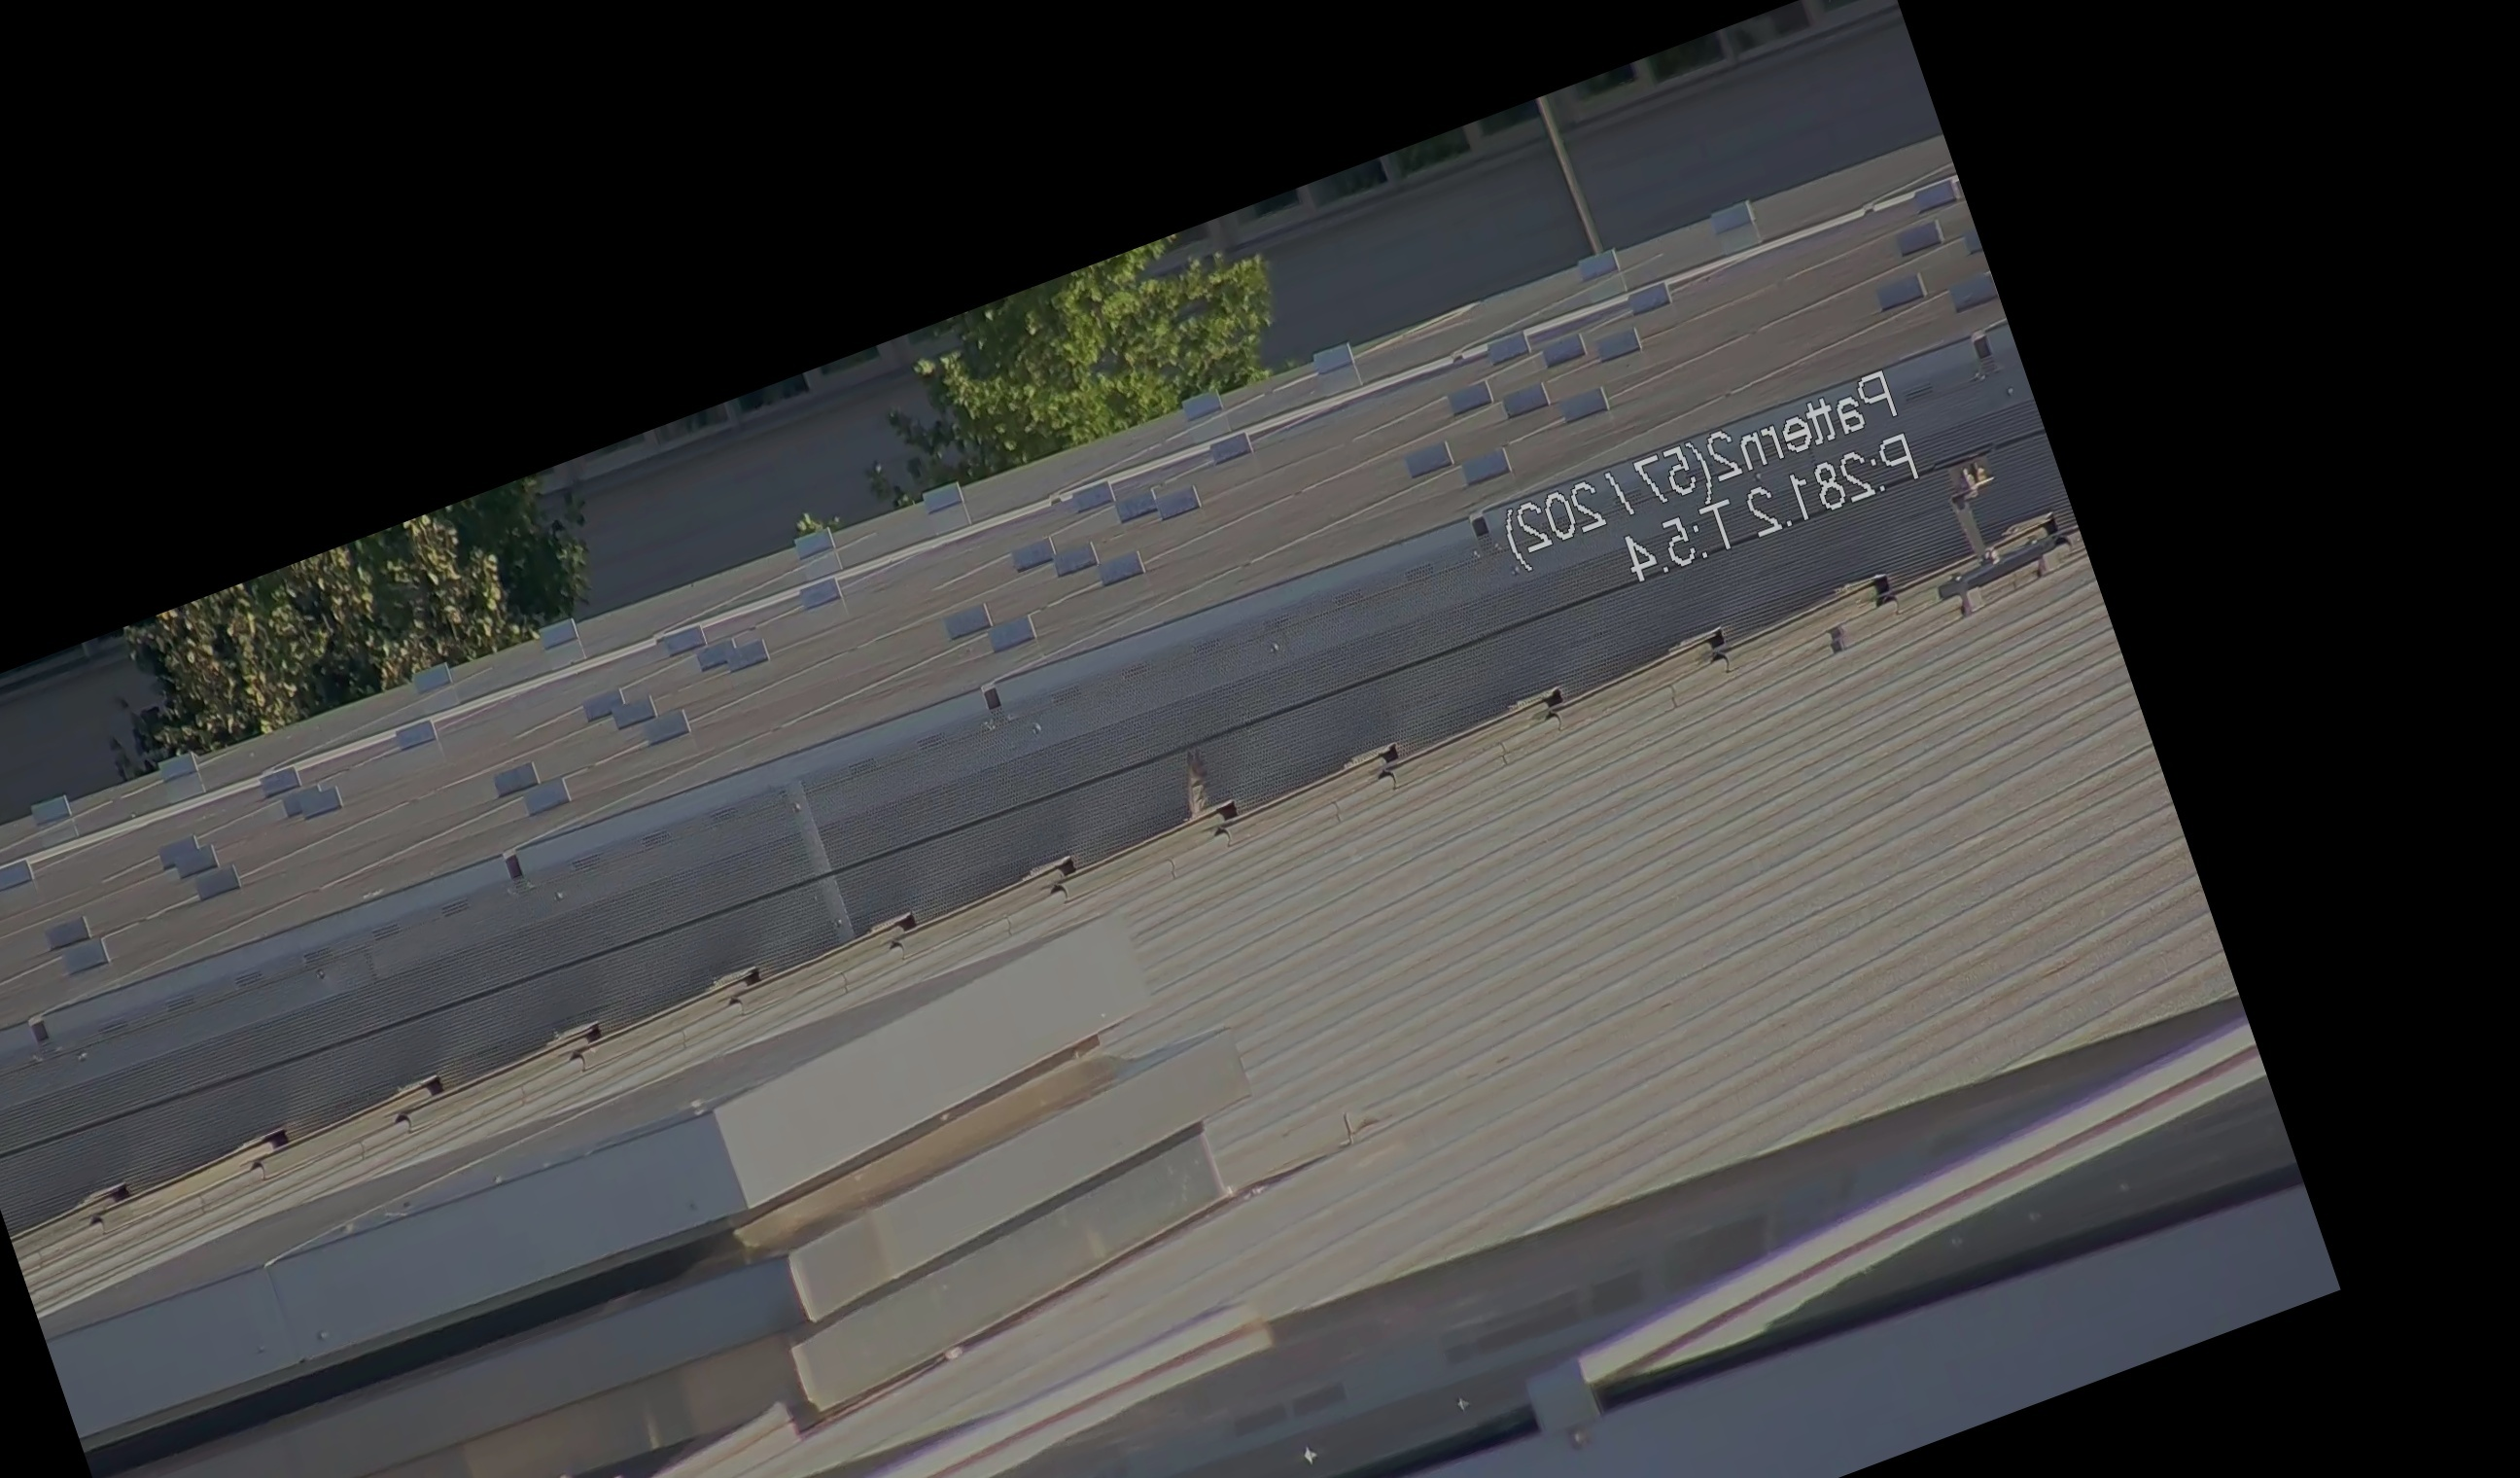Other: (1155, 723, 1252, 850)
